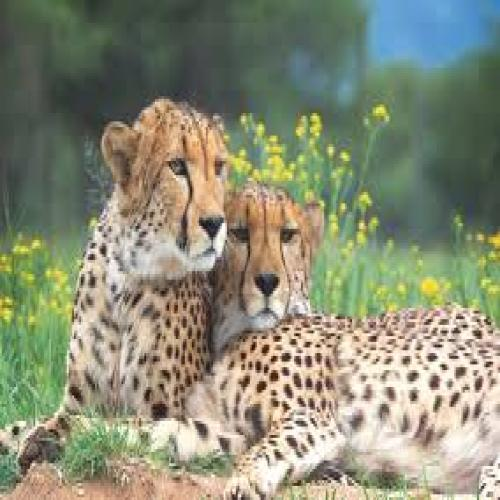cheetah-endangered: (165, 183, 498, 500), (30, 100, 230, 454)
